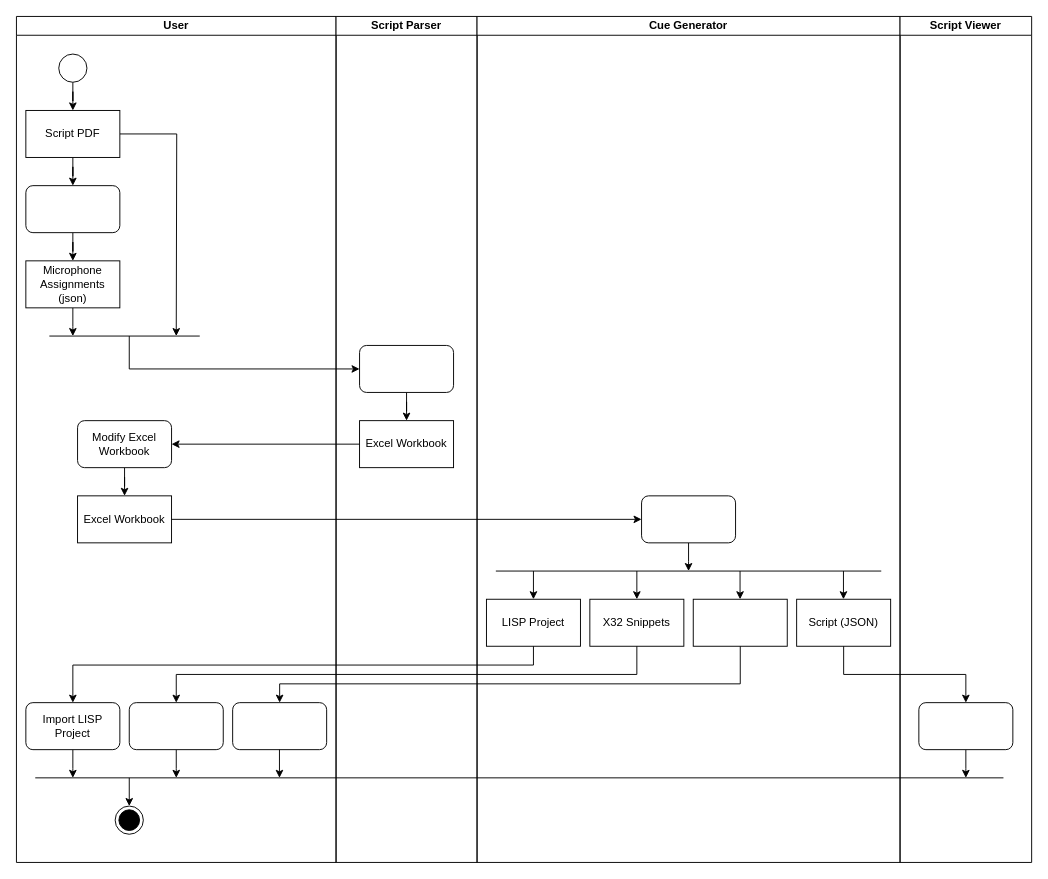
Some shapes in this 1048 by 879 pixel diagram are drawn without their labels. Each missing label, with the centre of its shape:
"Create Microphone Assignments" goes at pixel 72 209.
"Display Script" goes at pixel 965 726.
"Generate Cues" goes at pixel 688 519.
"Install Snippets on Deck" goes at pixel 175 726.
"Light Cues (CSV)" goes at pixel 739 622.
"Parse Script" goes at pixel 406 368.
"Program Light Cues" goes at pixel 279 726.
